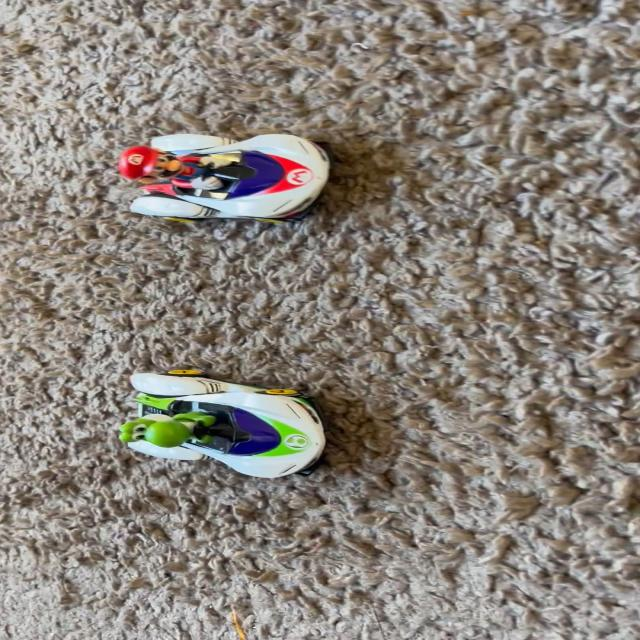mario: (101, 113, 349, 235)
yoshi: (113, 350, 347, 490)
